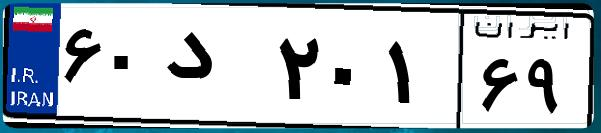0: (330, 28, 385, 110), (110, 28, 158, 98)
1: (385, 28, 445, 110)
2: (270, 28, 330, 110)
6: (57, 26, 110, 100), (475, 38, 525, 113)
9: (525, 38, 570, 115)
د: (158, 20, 270, 120)
